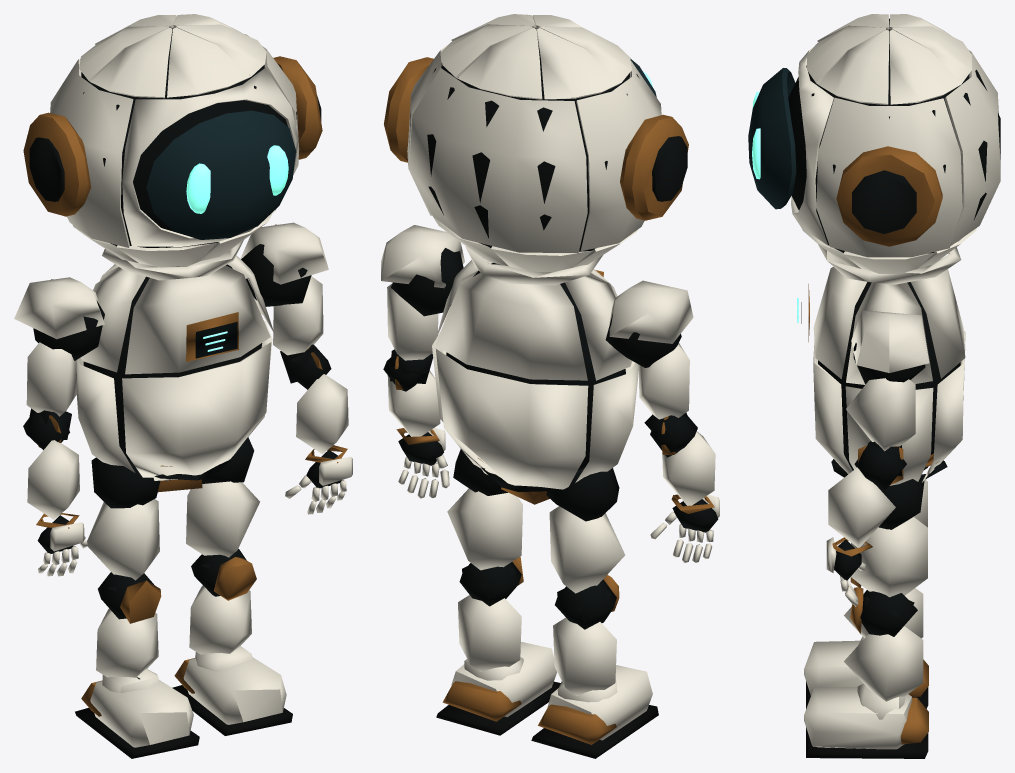
The model's file is hero-robot.lod2.glb.
3 views of the same model, side by side, from view 1: azimuth 30°, elevation 25°; view 2: azimuth 150°, elevation 25°; view 3: azimuth 270°, elevation 25° (orthographic). The views are drawn at different scales.
Parts seen in each view (by area): view 1: robot_Ceramic • warm ivory, Head_Ceramic • warm ivory, Head_Faceplate • deep teal glass, Head_Trim • graphite and brass, Arm.L_Ceramic • warm ivory, Arm.R_Ceramic • warm ivory, Foot.R_Ceramic • warm ivory, Foot.L_Ceramic • warm ivory, robot_Trim • graphite and brass, Leg.R_Ceramic • warm ivory, Leg.L_Ceramic • warm ivory, Shin.L_Ceramic • warm ivory (+16 smaller); view 2: Head_Ceramic • warm ivory, robot_Ceramic • warm ivory, Head_Trim • graphite and brass, Arm.L_Ceramic • warm ivory, Arm.R_Ceramic • warm ivory, Leg.R_Ceramic • warm ivory, Leg.L_Ceramic • warm ivory, Shin.L_Ceramic • warm ivory, Shin.R_Ceramic • warm ivory, Foot.L_Trim • graphite and brass, Foot.R_Trim • graphite and brass, Foot.R_Ceramic • warm ivory (+16 smaller); view 3: Head_Ceramic • warm ivory, robot_Ceramic • warm ivory, Head_Trim • graphite and brass, Arm.R_Ceramic • warm ivory, Foot.R_Ceramic • warm ivory, Head_Faceplate • deep teal glass, Leg.R_Ceramic • warm ivory, Shin.R_Ceramic • warm ivory, Forearm.R_Ceramic • warm ivory, robot_Trim • graphite and brass, Foot.R_Trim • graphite and brass, Foot.L_Ceramic • warm ivory (+9 smaller).
Boxes of the visible parts, x1,y1,x2,y2 form: robot_Ceramic • warm ivory: [76, 240, 274, 480]; Head_Ceramic • warm ivory: [50, 14, 299, 267]; Head_Faceplate • deep teal glass: [146, 110, 295, 239]; Head_Trim • graphite and brass: [23, 27, 322, 247]; Arm.L_Ceramic • warm ivory: [14, 277, 104, 416]; Arm.R_Ceramic • warm ivory: [240, 222, 328, 355]; Foot.R_Ceramic • warm ivory: [183, 646, 286, 724]; Foot.L_Ceramic • warm ivory: [90, 669, 193, 747]; robot_Trim • graphite and brass: [83, 264, 262, 492]; Leg.R_Ceramic • warm ivory: [186, 481, 259, 557]; Leg.L_Ceramic • warm ivory: [87, 499, 159, 580]; Shin.L_Ceramic • warm ivory: [96, 608, 158, 677]; Head_Ceramic • warm ivory: [407, 14, 661, 272]; robot_Ceramic • warm ivory: [432, 246, 638, 489]; Head_Trim • graphite and brass: [384, 27, 688, 251]; Arm.L_Ceramic • warm ivory: [609, 280, 693, 419]; Arm.R_Ceramic • warm ivory: [381, 225, 464, 360]; Leg.R_Ceramic • warm ivory: [447, 488, 522, 570]; Leg.L_Ceramic • warm ivory: [549, 506, 624, 593]; Shin.L_Ceramic • warm ivory: [553, 617, 616, 695]; Shin.R_Ceramic • warm ivory: [458, 595, 521, 671]; Foot.L_Trim • graphite and brass: [531, 704, 658, 758]; Foot.R_Trim • graphite and brass: [436, 681, 560, 735]; Foot.R_Ceramic • warm ivory: [451, 642, 556, 717]; Head_Ceramic • warm ivory: [791, 14, 1000, 273]; robot_Ceramic • warm ivory: [813, 244, 965, 485]; Head_Trim • graphite and brass: [788, 18, 1000, 253]; Arm.R_Ceramic • warm ivory: [846, 310, 929, 451]; Foot.R_Ceramic • warm ivory: [804, 683, 911, 749]; Head_Faceplate • deep teal glass: [748, 68, 796, 209]; Leg.R_Ceramic • warm ivory: [851, 517, 927, 597]; Shin.R_Ceramic • warm ivory: [844, 626, 923, 701]; Forearm.R_Ceramic • warm ivory: [828, 467, 895, 547]; robot_Trim • graphite and brass: [801, 282, 960, 479]; Foot.R_Trim • graphite and brass: [806, 697, 928, 758]; Foot.L_Ceramic • warm ivory: [804, 636, 864, 695].
Size of the model in its own units: 0.8581 by 1.75 by 0.5801.
4 materials, 1 textured.
